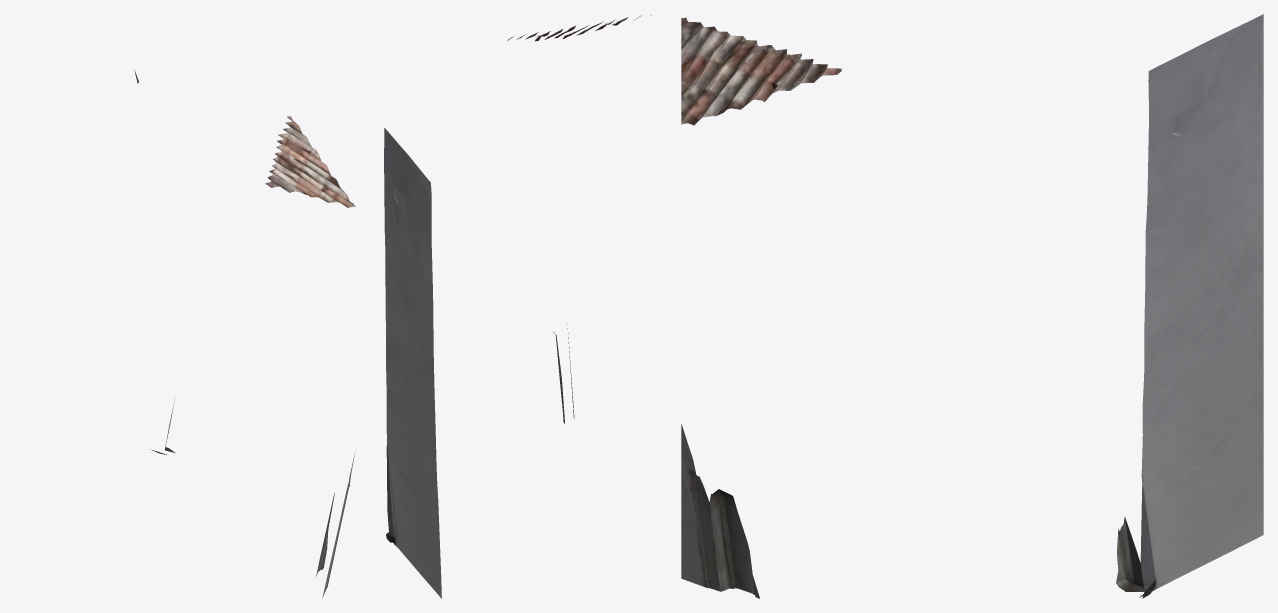
3 renders of one model, left to right at view 1: azimuth 30°, elevation 25°; view 2: azimuth 150°, elevation 25°; view 3: azimuth 270°, elevation 25°, orthographic. The views are drawn at different scales.
Bounding box in the file's own units: 1.74 × 6.7 × 6.7.
Materials: 1 (1 with a texture image).
